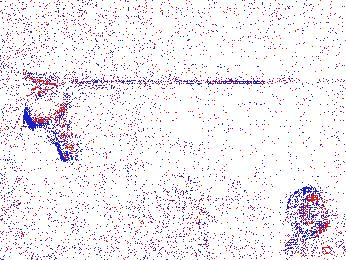flame jellyfish: (23, 83, 79, 162), (203, 175, 263, 232), (285, 185, 329, 234)
